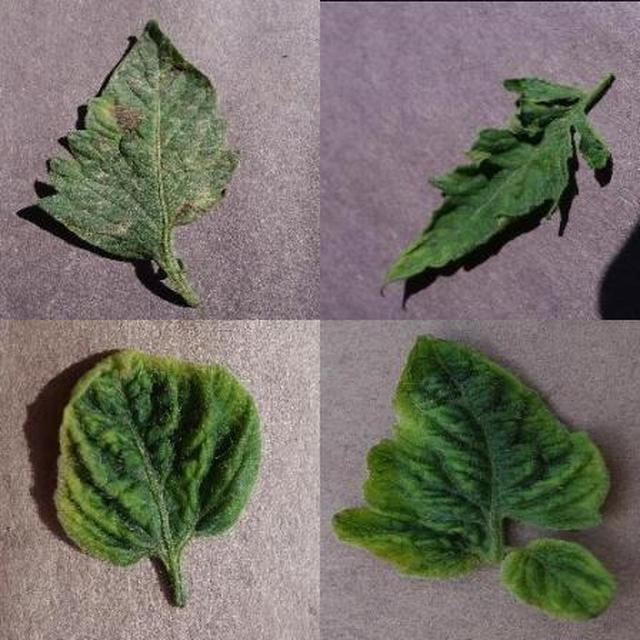Early Blight Leaf: (168, 120, 640, 640)
